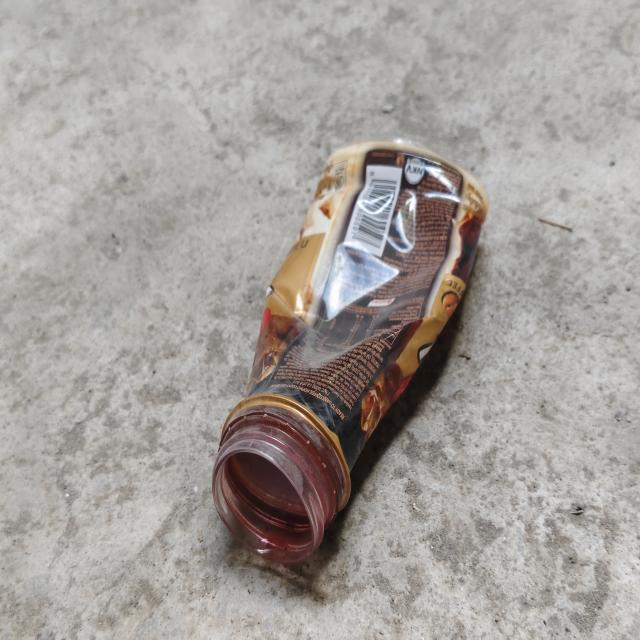Bottle: (212, 139, 488, 564)
